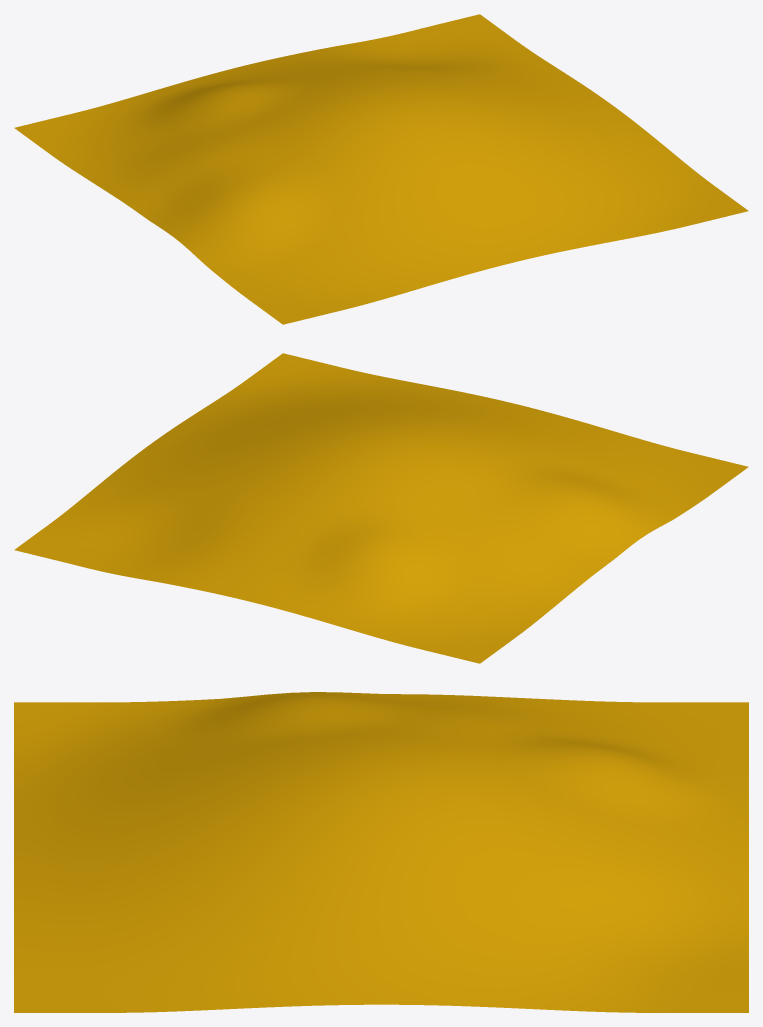
Rendered from Sand.fbx.
3 renders of one model, top to bottom at view 1: azimuth 30°, elevation 25°; view 2: azimuth 150°, elevation 25°; view 3: azimuth 270°, elevation 25°, orthographic. The views are drawn at different scales.
Parts seen in each view (by area): view 1: Plane; view 2: Plane; view 3: Plane.
Part boxes in pixels (<box>): Plane: <box>14,14,748,324</box>; Plane: <box>14,353,748,663</box>; Plane: <box>14,692,748,1012</box>.
Bounding box in the file's own units: 742 × 92.69 × 742.
